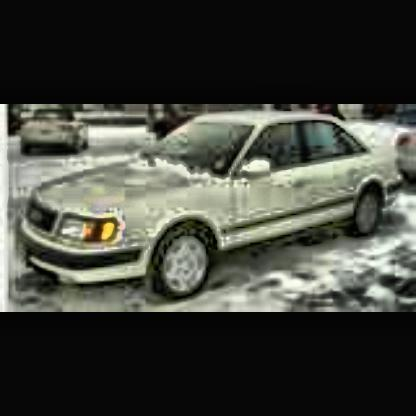Audi 100 Sedan 1994: (17, 113, 412, 305)
